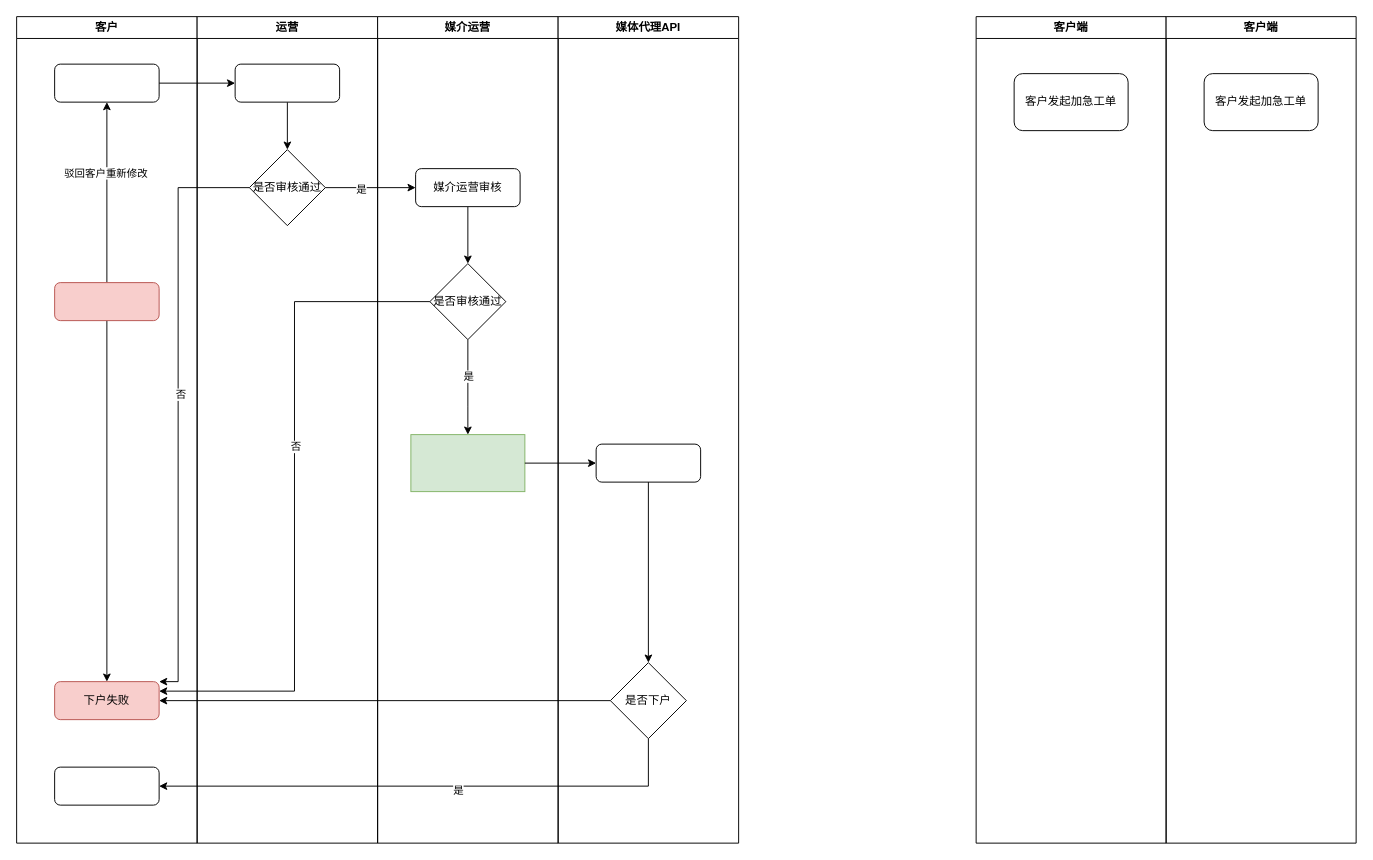
Image size: 1373x860. Some labels were removed from this diagram. The centre of each missing label's shape, as x and y in pixels:
API 自动工单处理: the point at 648,462
下户成功: the point at 106,785
手动 / 自动 API 处理（媒体代理）: the point at 467,463
提价开户工单: the point at 106,82
运营审核: the point at 287,82
驳回工单 （驳回工客户修改）: the point at 106,301
